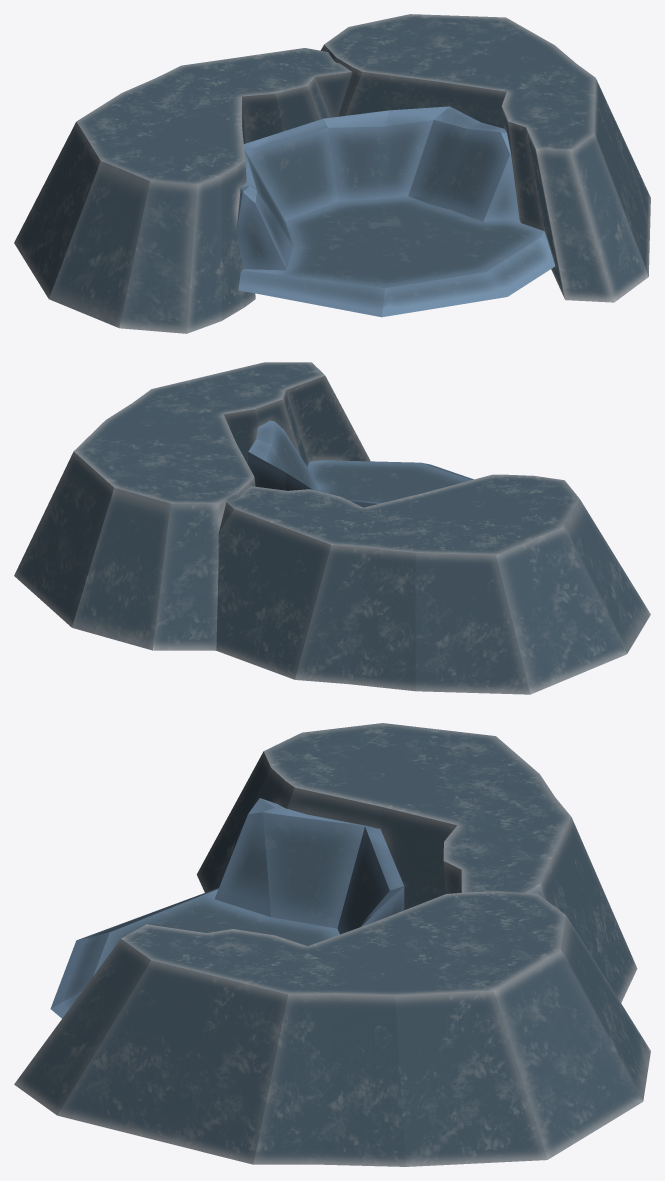
Rendered from MapaGolem.fbx.
The picture shows the model from 3 angles, top to bottom: view 1: azimuth 30°, elevation 25°; view 2: azimuth 150°, elevation 25°; view 3: azimuth 270°, elevation 25°; orthographic projection. The views are drawn at different scales.
Parts seen in each view (by area): view 1: Ilha_Golem_C, Ilha_Golem_A, Ilha_Golem_B; view 2: Ilha_Golem_C, Ilha_Golem_B, Ilha_Golem_A; view 3: Ilha_Golem_B, Ilha_Golem_C, Ilha_Golem_A.
Boxes of the visible parts, box(x1,y1,x2,y2) form: Ilha_Golem_C: box(14, 48, 352, 333); Ilha_Golem_A: box(236, 106, 555, 317); Ilha_Golem_B: box(320, 14, 650, 302); Ilha_Golem_C: box(216, 474, 650, 694); Ilha_Golem_B: box(14, 362, 370, 650); Ilha_Golem_A: box(248, 420, 473, 507); Ilha_Golem_B: box(14, 891, 650, 1166); Ilha_Golem_C: box(196, 723, 637, 1002); Ilha_Golem_A: box(50, 798, 404, 1018).
Size of the model in its own units: 69812 by 14264 by 56467.
3 materials, 3 textured.
